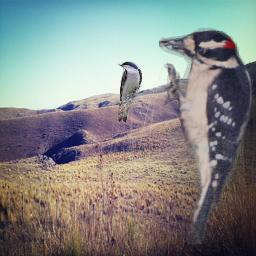Swallow: (116, 61, 142, 123)
Woodpecker: (159, 25, 256, 244)
